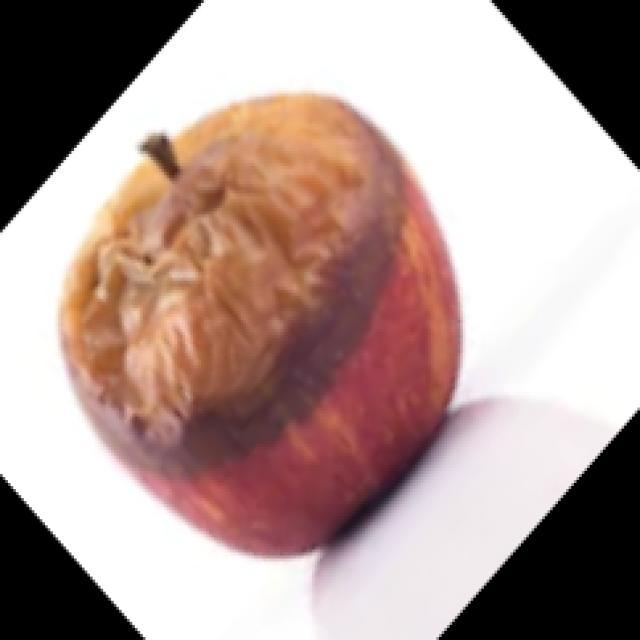Rotten: (48, 83, 470, 560)
